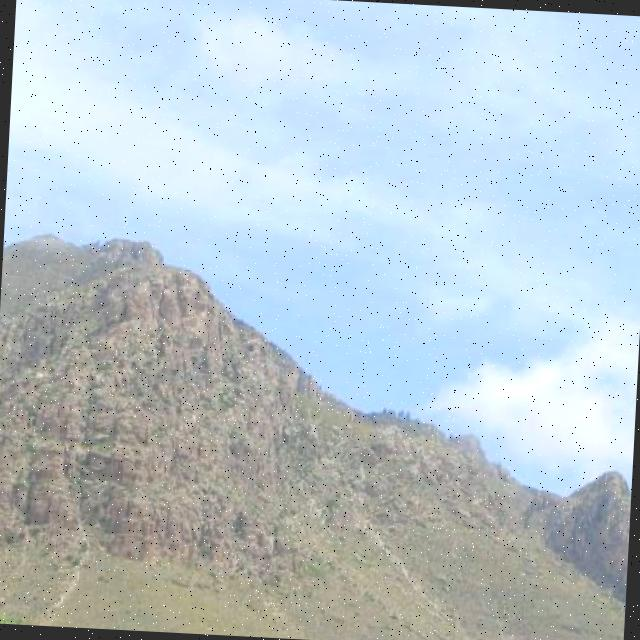Cs: (7, 4, 640, 233)
